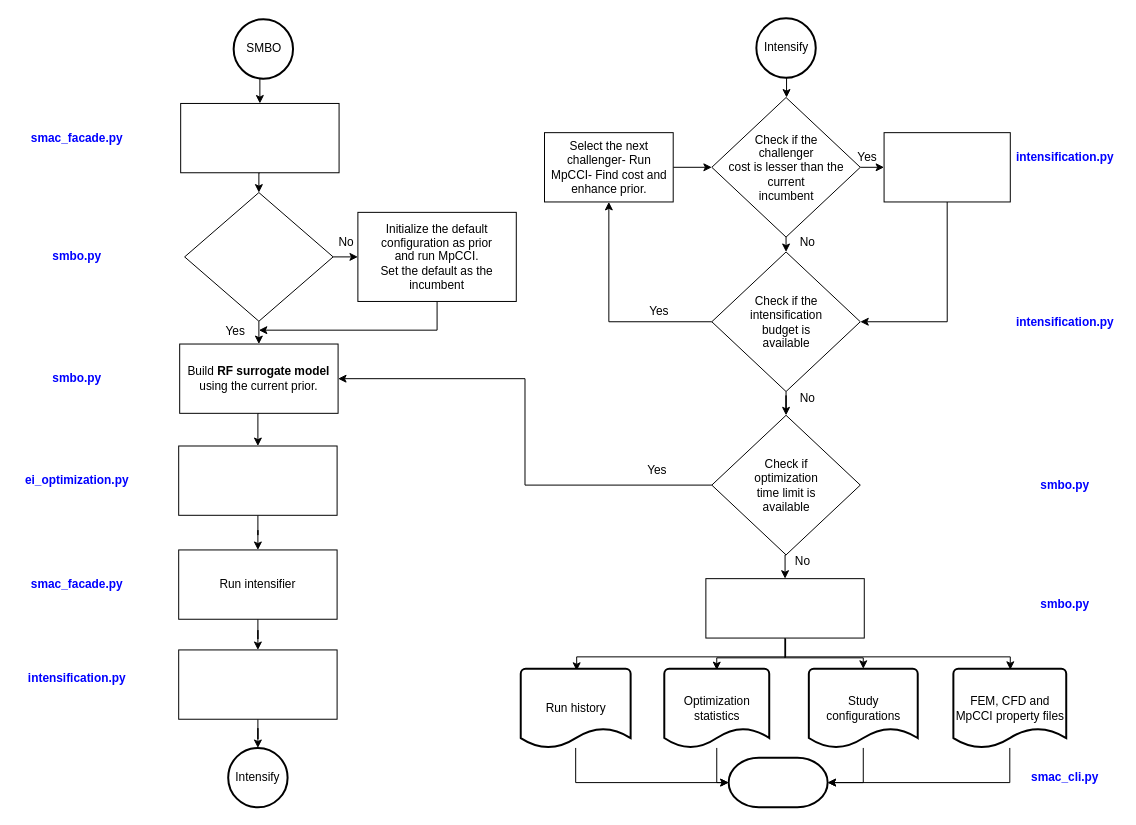
The diagram is 1136 pixels wide and 825 high, and some of its shapes have lost their labels. The centre of each missing label's shape, as x and y in pixels:
Checks if incumbent configuration is available: the point at 258,256
End: the point at 777,782
Maximize acquisition function. Select 50 challenges from EI score.: the point at 257,480
Return the incumbent: the point at 784,608
Run Sequential Model Based Optimization (SMBO): the point at 259,137
Select the best challenger- Run MpCCI- Find cost and enhance prior.: the point at 257,684
Update the incumbent and challenger set: the point at 946,167
